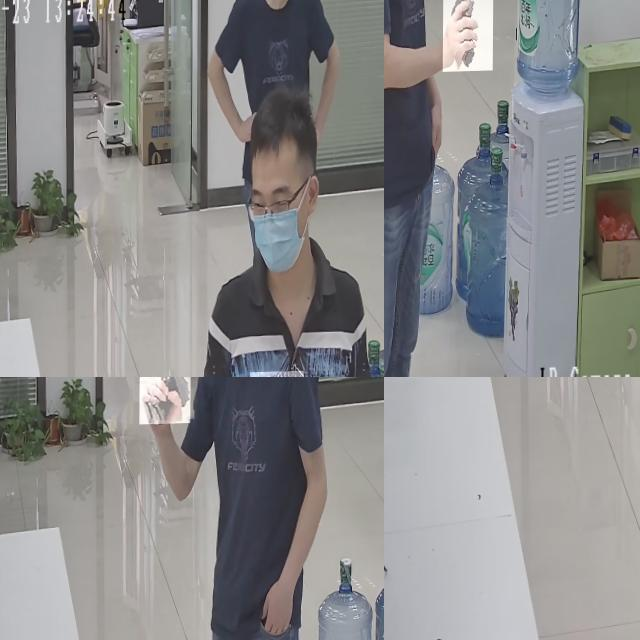gun-knife-thesis - v11 Yolov5 augmented: (443, 0, 493, 74), (139, 377, 191, 440)
